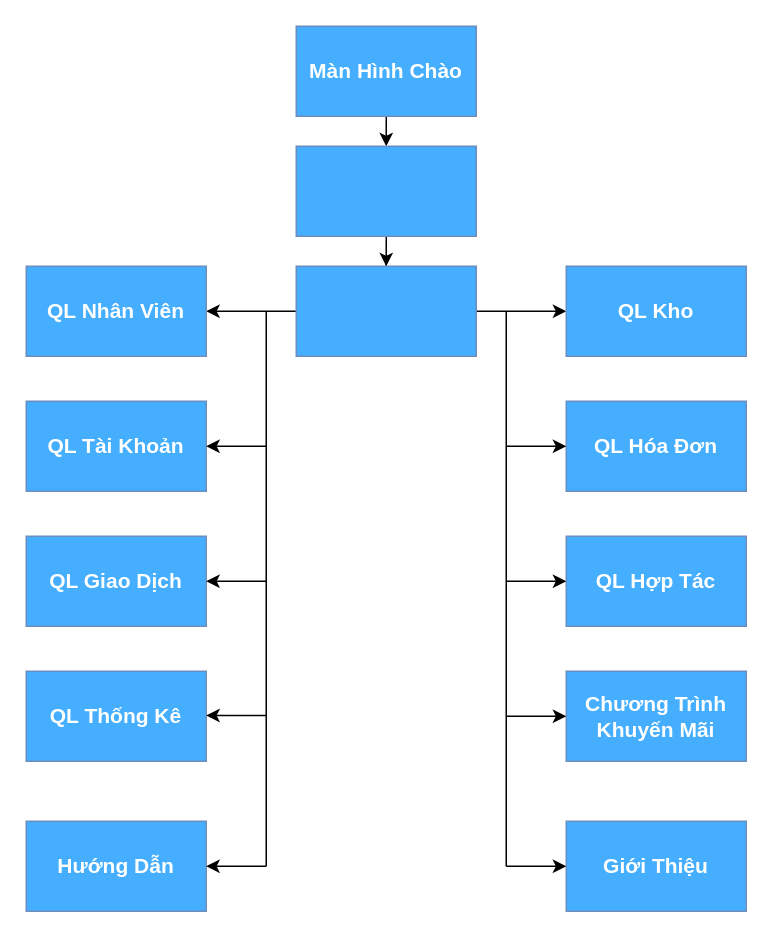
The diagram is 773 pixels wide and 938 high, and some of its shapes have lost their labels. The box of each missing label's shape, as (x1, y1, x2, y2) in pixels:
Giao Diện Chính: (295, 265, 476, 356)
Đăng Nhập: (295, 145, 476, 236)
